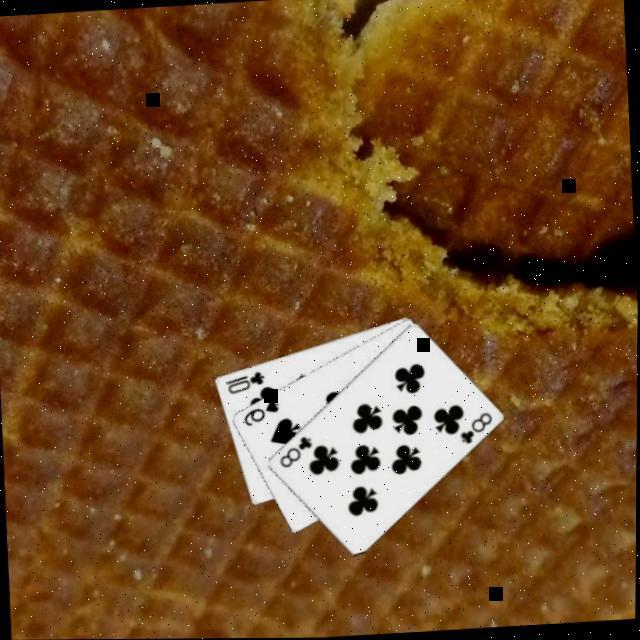10C: (222, 371, 268, 398)
6S: (240, 399, 282, 431)
8C: (274, 436, 316, 474), (456, 411, 496, 450)
